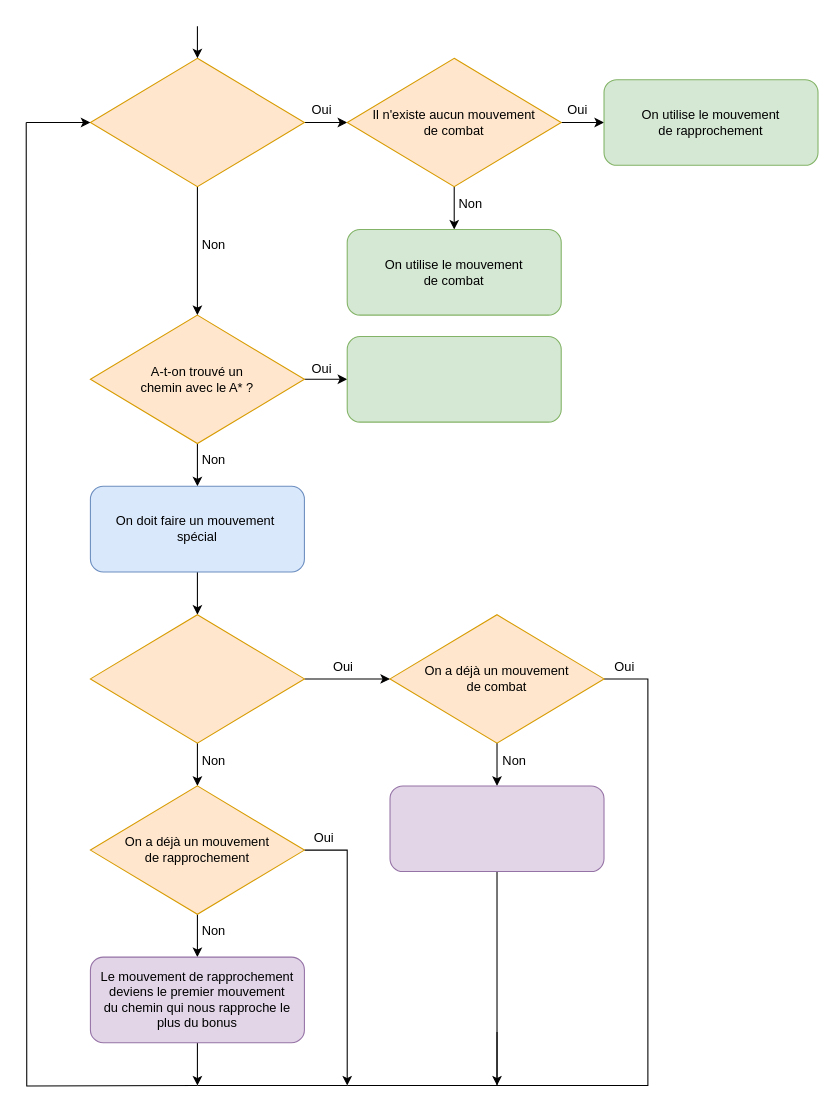
This 837x1113 diagram has some shape labels left out. Each missing label, with the centre of its shape:
"On a essayé tout les bonus ?" goes at (x=196, y=122).
"On créé un mouvement de combat (Figure 2)" goes at (x=496, y=828).
"On utilise le premier mouvement qui créé ce chemin" goes at (x=453, y=378).
"Un ennemi est dangeureux ?" goes at (x=196, y=678).
